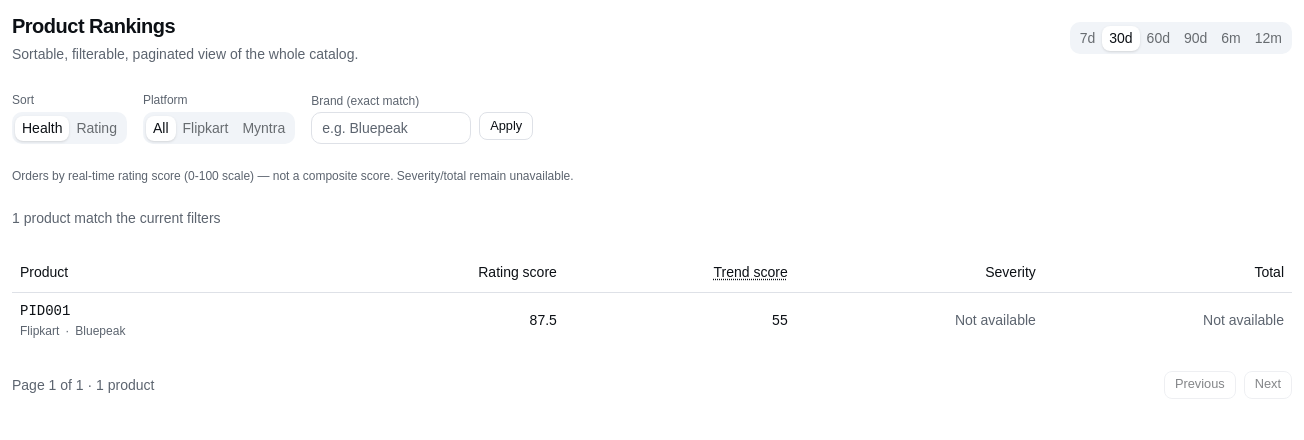
Products / Rankings (Phase 7 Step 4) › 9. changing sort updates the URL and requests the new sort
Expected: the link "PID001" is shown, [20,302,70,318]
Click the tab "Rating" at (97,128), box [70,116,124,140]
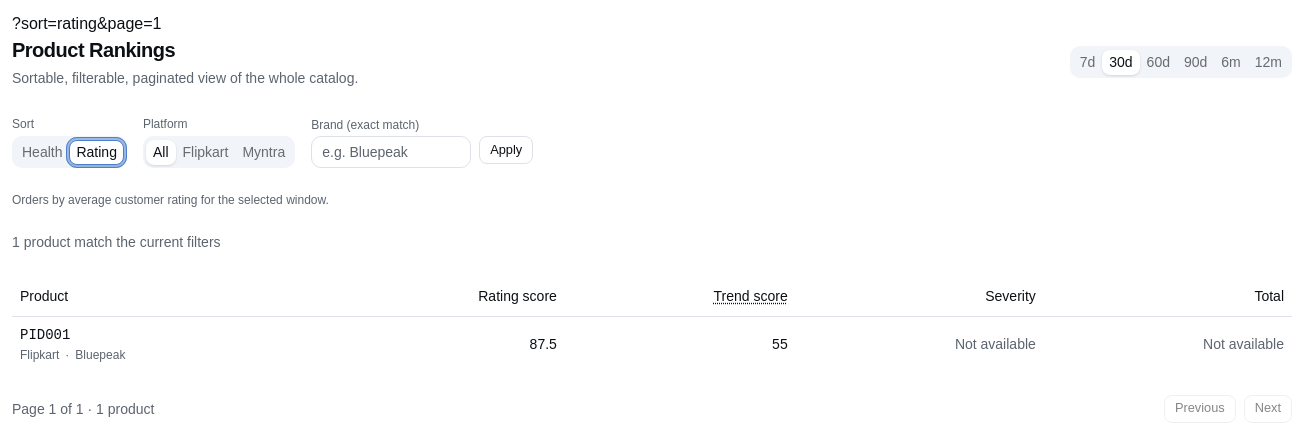
Now the text with test id "location-search" shows "sort=rating", box [12,15,162,32]
